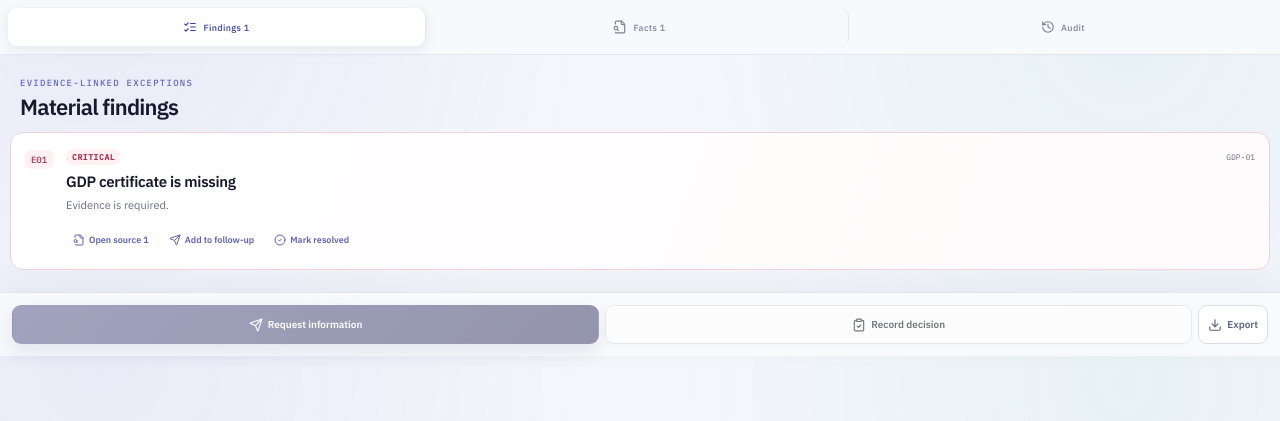
Test: review actions › keeps finding resolution explicit and announces the result
This screenshot has width=1280, height=421.
Click the button "Mark resolved" at (312, 240), box [267, 226, 356, 254]
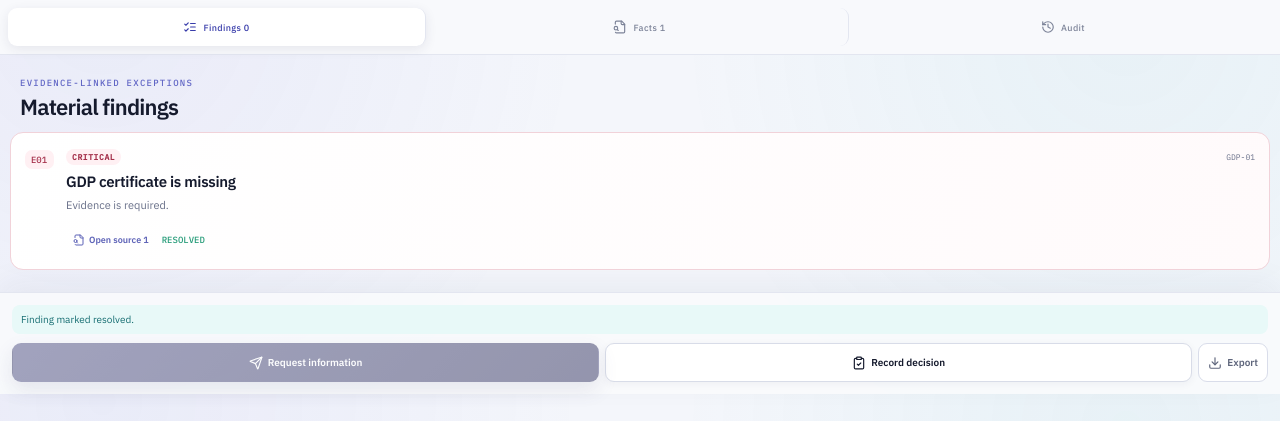
Expected: the text "resolved" is shown, [162, 234, 205, 246]
Expected: the message shows "Finding marked resolved", [21, 314, 134, 326]
Expected: the tab "Findings 0" is shown, [8, 8, 426, 46]
